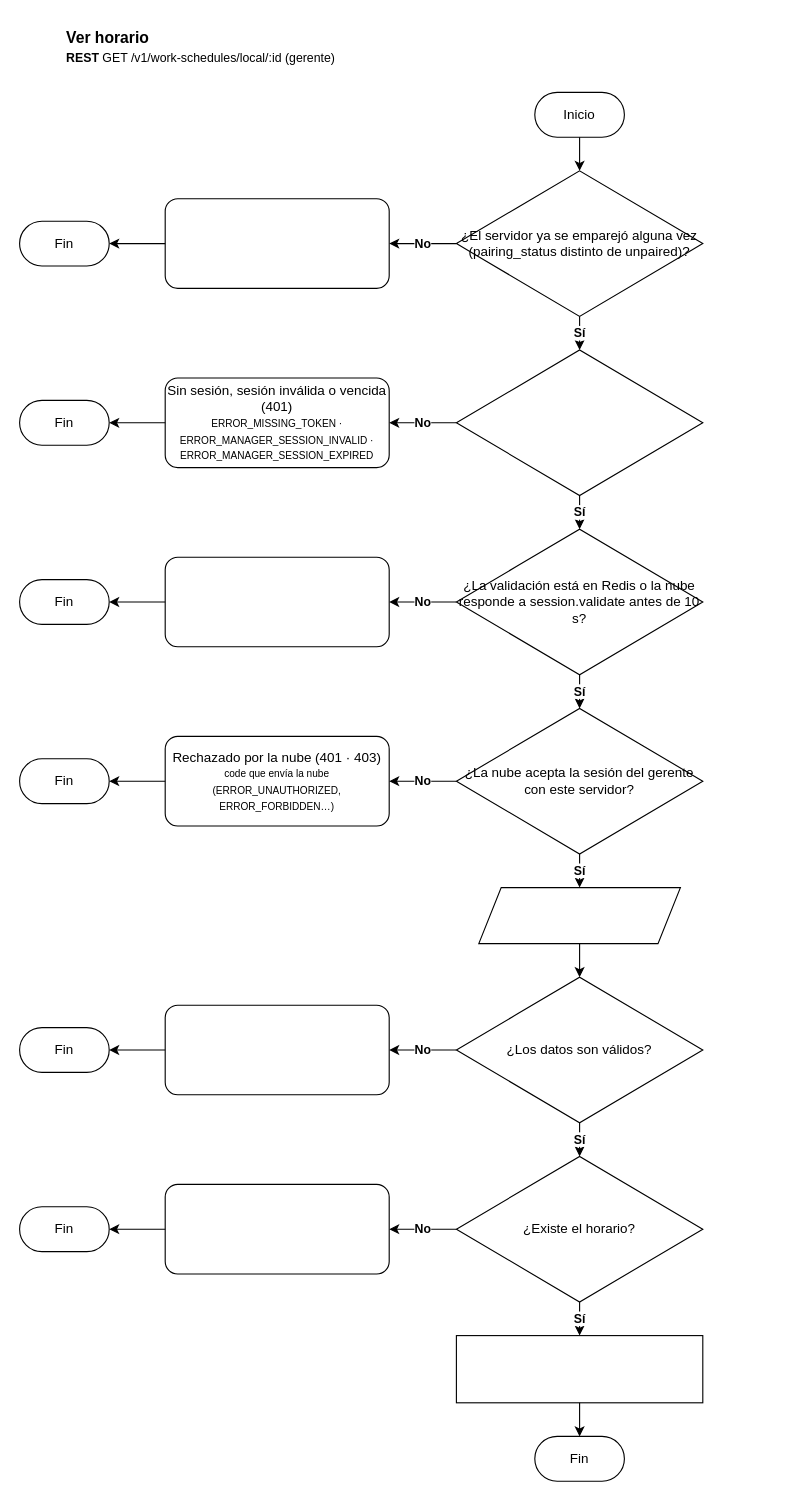
The diagram is 801 pixels wide and 1501 high, and some of its shapes have lost their labels. Each missing label, with the centre of its shape:
Datos inválidos (400) ERROR_BAD_REQUEST: the point at 276,1049
La nube no responde (503) ERROR_CLOUD_UNAVAILABLE · ERROR_SERVER_UNLINKED: the point at 276,601
No se encontró el horario (404) ERROR_WORK_SCHEDULE_NOT_FOUND: the point at 276,1228
Recibir datos: the point at 579,915
Responder 200 con el mensaje WORK_SCHEDULE_RETRIEVED: the point at 579,1368
Servidor sin emparejar (409) ERROR_SERVER_NOT_PAIRED: the point at 276,243
¿Trae una sesión de gerente válida (Bearer mss_..., sin 30 min de inactividad)?: the point at 579,422
